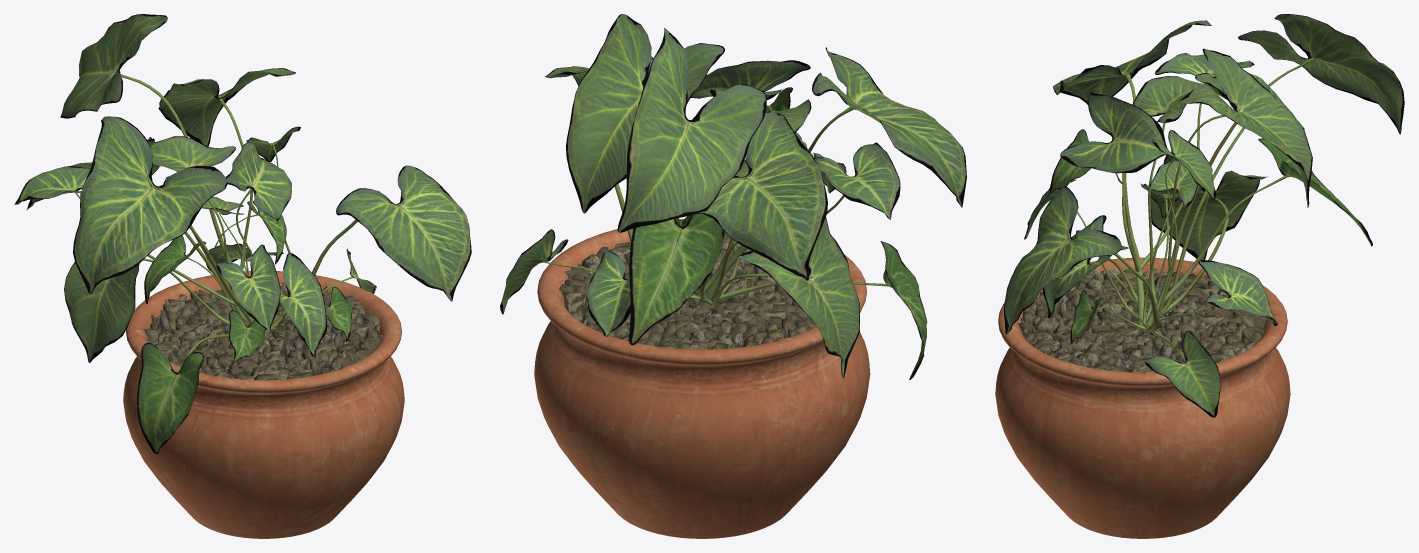
The model's file is potplant_terracotta.gltf.
The picture shows the model from 3 angles, left to right: view 1: azimuth 30°, elevation 25°; view 2: azimuth 150°, elevation 25°; view 3: azimuth 270°, elevation 25°; orthographic projection. The views are drawn at different scales.
Visible parts, largest first — view 1: potted_plant_02_leaves, potted_plant_02_pot, potted_plant_02_dirt; view 2: potted_plant_02_leaves, potted_plant_02_pot, potted_plant_02_dirt; view 3: potted_plant_02_leaves, potted_plant_02_pot, potted_plant_02_dirt.
Part boxes in pixels (left/top/right/bottom): potted_plant_02_leaves: left=14, top=14, right=471, bottom=454; potted_plant_02_pot: left=123, top=271, right=404, bottom=538; potted_plant_02_dirt: left=143, top=282, right=382, bottom=380; potted_plant_02_leaves: left=500, top=14, right=966, bottom=379; potted_plant_02_pot: left=534, top=219, right=870, bottom=538; potted_plant_02_dirt: left=559, top=234, right=816, bottom=349; potted_plant_02_leaves: left=1004, top=14, right=1404, bottom=417; potted_plant_02_pot: left=995, top=257, right=1290, bottom=538; potted_plant_02_dirt: left=1018, top=268, right=1266, bottom=372.
Bounding box in the file's own units: 0.7009 × 0.8412 × 0.6574.
Materials: 2 (2 with a texture image).
